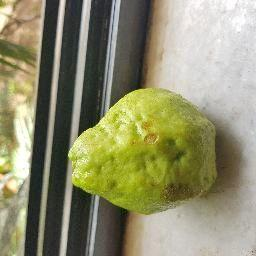guava: (63, 84, 220, 217)
